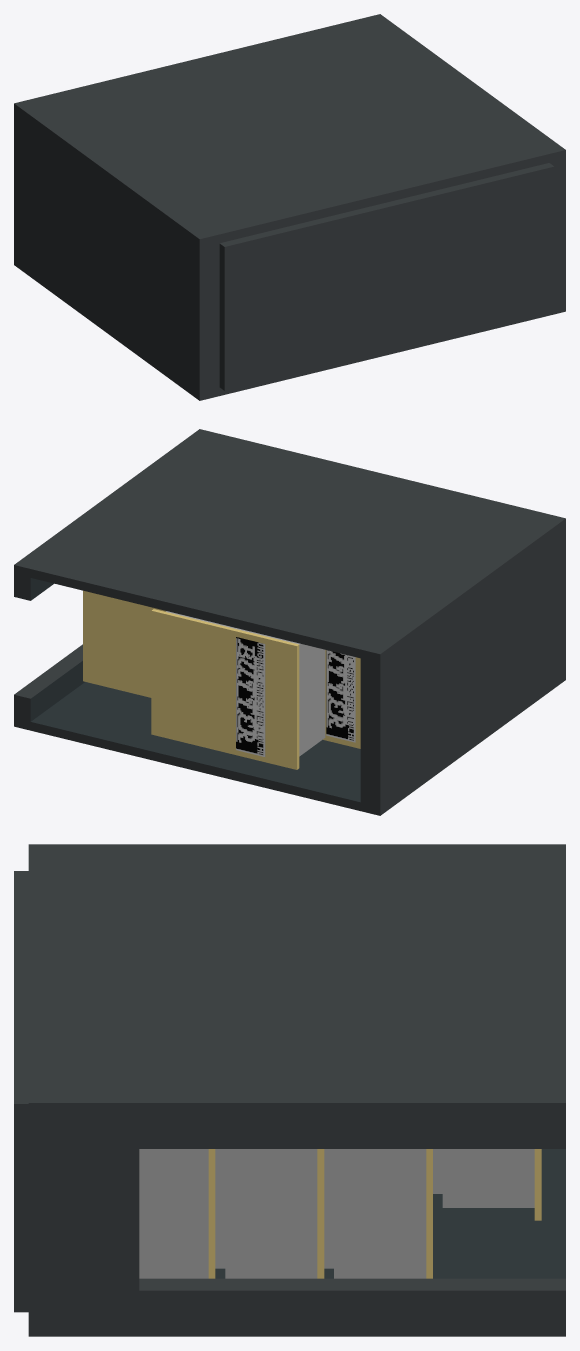
Rendered from Butter Packet Holder.fbx.
3 views of the same model, one above another, from view 1: azimuth 30°, elevation 25°; view 2: azimuth 150°, elevation 25°; view 3: azimuth 270°, elevation 25° (orthographic). The views are drawn at different scales.
Visible parts, largest first — view 1: Butter_Pack_Holder; view 2: Butter_Pack_Holder, Butter_Pack, Butter_Pack_5, Butter_Pack_2; view 3: Butter_Pack_Holder, Butter_Pack_6, Butter_Pack_5, Butter_Pack_7, Butter_Pack.
Part boxes in pixels (<box>): Butter_Pack_Holder: <box>14,14,565,400</box>; Butter_Pack_Holder: <box>14,429,565,815</box>; Butter_Pack: <box>151,609,325,769</box>; Butter_Pack_5: <box>83,590,166,697</box>; Butter_Pack_2: <box>323,650,360,748</box>; Butter_Pack_Holder: <box>14,844,565,1336</box>; Butter_Pack_6: <box>215,1149,324,1278</box>; Butter_Pack_5: <box>324,1149,432,1278</box>; Butter_Pack_7: <box>139,1149,215,1278</box>; Butter_Pack: <box>433,1149,541,1220</box>.
Bounding box in the file's own units: 12.8 × 5.4 × 11.55.
2 materials, 2 textured.
